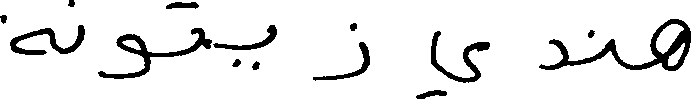ة: (0, 13, 51, 55)
ت: (164, 0, 203, 58)
د: (540, 37, 568, 70)
ز: (313, 20, 369, 81)
ن: (588, 27, 615, 62), (69, 0, 85, 54)
ه: (649, 16, 688, 71)
و: (98, 32, 149, 79)
ي: (415, 28, 488, 97), (230, 22, 275, 69)
